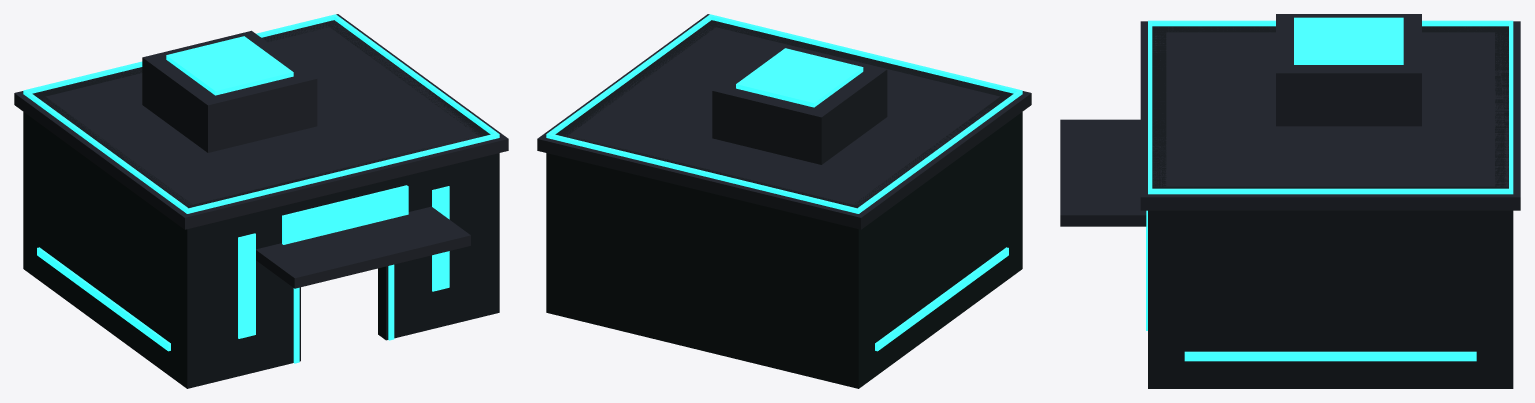
File: shaddai_dist_grid_home_a_v01.glb
The picture shows the model from 3 angles, left to right: view 1: azimuth 30°, elevation 25°; view 2: azimuth 150°, elevation 25°; view 3: azimuth 270°, elevation 25°; orthographic projection. The views are drawn at different scales.
Parts seen in each view (by area): view 1: shaddai_dist_grid_home_a; view 2: shaddai_dist_grid_home_a; view 3: shaddai_dist_grid_home_a.
Boxes of the visible parts, x1,y1,x2,y2 form: shaddai_dist_grid_home_a: (14,14,508,388); shaddai_dist_grid_home_a: (537,14,1031,388); shaddai_dist_grid_home_a: (1060,14,1520,388).
Size of the model in its own units: 11.4 by 7.63 by 12.6.
